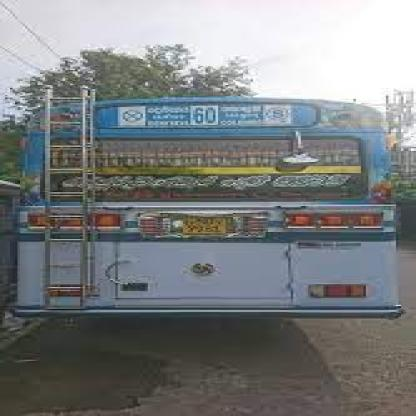bus back: (16, 93, 404, 319)
number plate: (172, 210, 234, 238)
